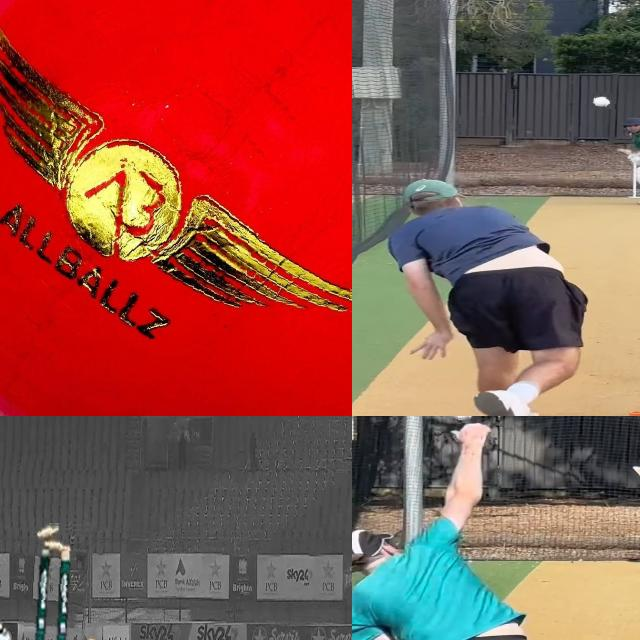Cricket ball: (0, 0, 352, 416), (590, 93, 617, 109), (442, 416, 478, 422)
Stumps: (23, 521, 91, 640)
